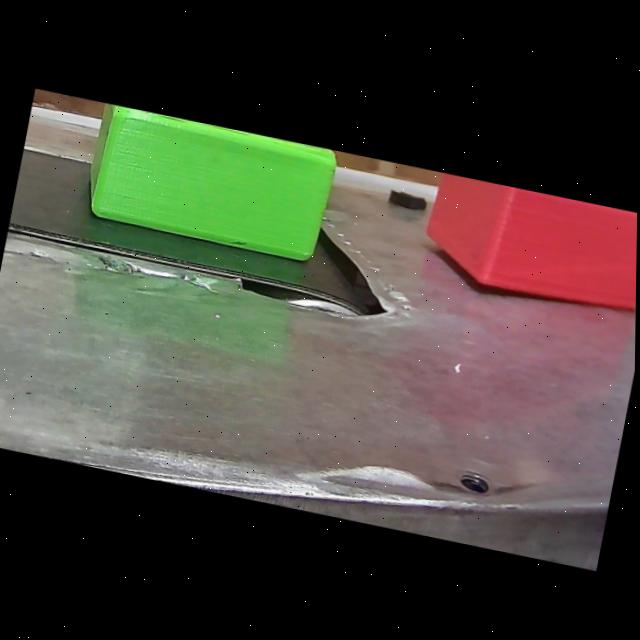greenBox: (74, 100, 357, 276)
redBox: (413, 168, 638, 321)
